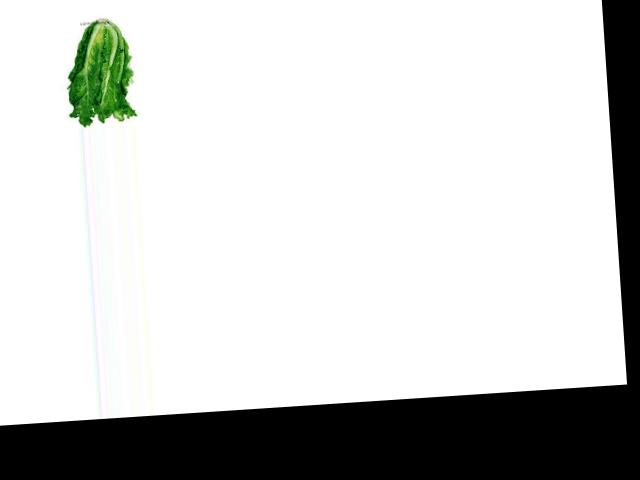lettuce: (63, 19, 139, 127)
